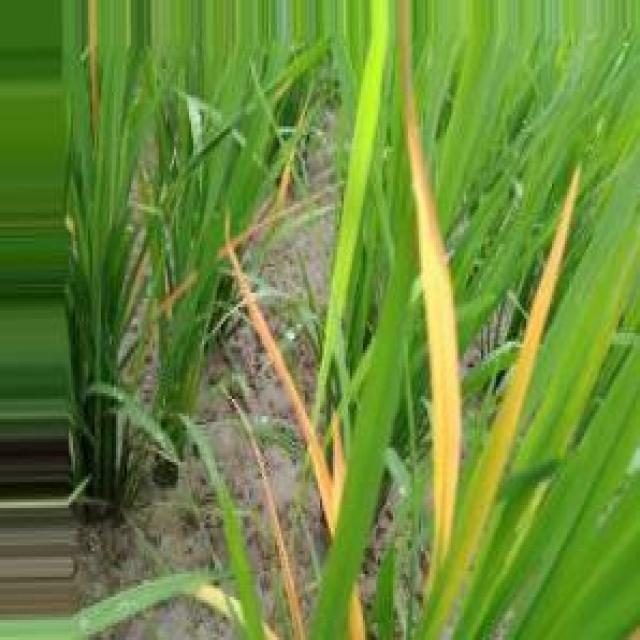Rice Tungro: (460, 167, 579, 569), (225, 242, 345, 534), (401, 0, 460, 572), (221, 386, 308, 639), (159, 271, 198, 315), (348, 588, 366, 639), (276, 164, 291, 206)
